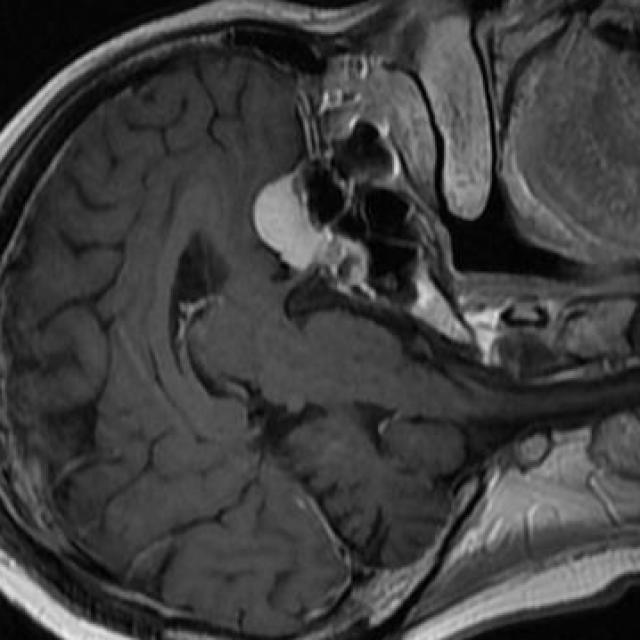meningioma: (253, 173, 332, 271)
